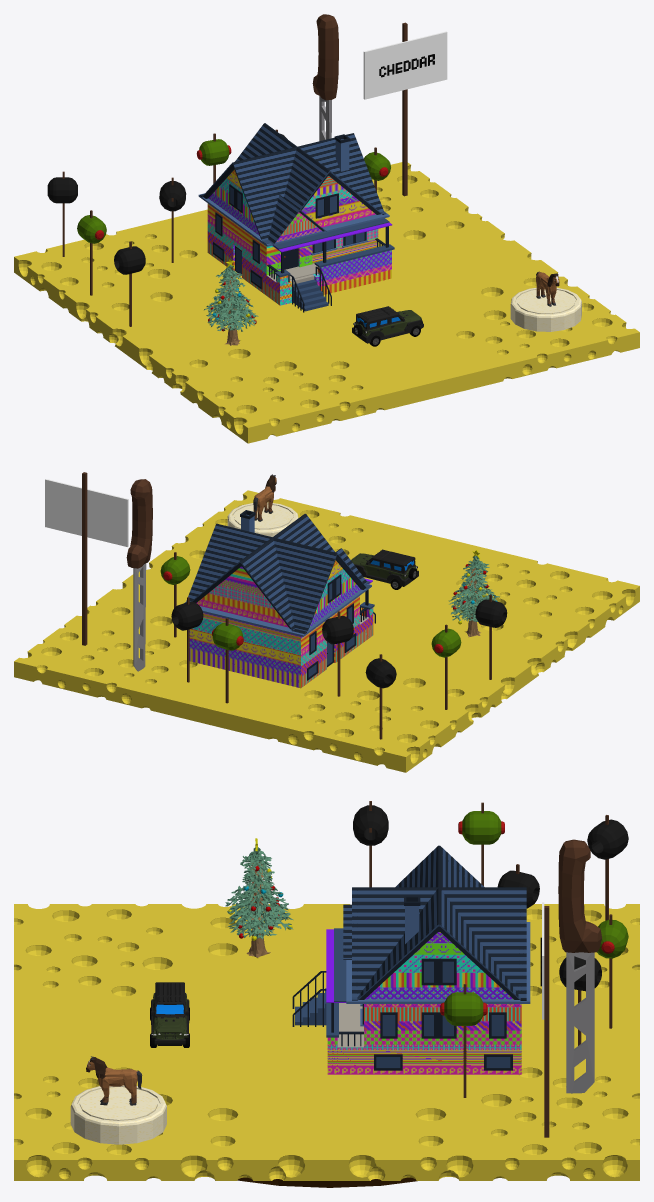
3 views of the same model, one above another, from view 1: azimuth 30°, elevation 25°; view 2: azimuth 150°, elevation 25°; view 3: azimuth 270°, elevation 25° (orthographic). The views are drawn at different scales.
Visible parts, largest first — view 1: Cube.022, Cube.676, Cube.023, Cylinder.016, Cube.024, OBJRANDOM_CHRISTMAS_TREE, VEHICLES_JEEP, Sphere.017, Sphere.016, Sphere.020, Sphere.018, Sphere.022 (+2 smaller); view 2: Cube.022, Cube.676, Cube.023, Cube.024, OBJRANDOM_CHRISTMAS_TREE, VEHICLES_JEEP, Cylinder.016, Sphere.020, Sphere.016, Sphere.022, Sphere.017, Sphere.021 (+3 smaller); view 3: Cube.022, Cube.676, Cube.024, Cylinder.016, OBJRANDOM_CHRISTMAS_TREE, VEHICLES_JEEP, Cube.023, Sphere.019, Sphere.016, Sphere.018, Sphere.017, ANIMAL_CABALLO (+4 smaller).
Boxes of the visible parts, x1,y1,x2,y2 form: Cube.022: [14, 162, 639, 443]; Cube.676: [198, 123, 394, 312]; Cube.023: [363, 22, 447, 196]; Cylinder.016: [510, 287, 581, 331]; Cube.024: [312, 14, 338, 141]; OBJRANDOM_CHRISTMAS_TREE: [204, 259, 258, 345]; VEHICLES_JEEP: [352, 306, 423, 346]; Sphere.017: [114, 241, 145, 326]; Sphere.016: [47, 171, 77, 256]; Sphere.020: [159, 177, 186, 262]; Sphere.018: [77, 210, 106, 295]; Sphere.022: [196, 133, 231, 183]; Cube.022: [14, 490, 639, 772]; Cube.676: [184, 510, 375, 688]; Cube.023: [45, 472, 128, 645]; Cube.024: [126, 479, 152, 671]; OBJRANDOM_CHRISTMAS_TREE: [448, 550, 499, 637]; VEHICLES_JEEP: [351, 549, 418, 589]; Cylinder.016: [227, 502, 298, 536]; Sphere.020: [322, 611, 353, 696]; Sphere.016: [365, 654, 396, 739]; Sphere.022: [212, 618, 243, 703]; Sphere.017: [475, 594, 507, 679]; Sphere.021: [171, 597, 203, 682]; Cube.022: [14, 904, 639, 1180]; Cube.676: [292, 845, 530, 1074]; Cube.024: [558, 839, 601, 1093]; Cylinder.016: [70, 1085, 166, 1144]; OBJRANDOM_CHRISTMAS_TREE: [225, 838, 293, 958]; VEHICLES_JEEP: [150, 982, 189, 1047]; Cube.023: [540, 902, 549, 1137]; Sphere.019: [440, 984, 487, 1097]; Sphere.016: [587, 815, 628, 920]; Sphere.018: [458, 802, 504, 885]; Sphere.017: [353, 801, 388, 887]; ANIMAL_CABALLO: [86, 1056, 142, 1105].
Bounding box in the file's own units: 3917 × 2073 × 4000.
43 materials, 7 textured.
